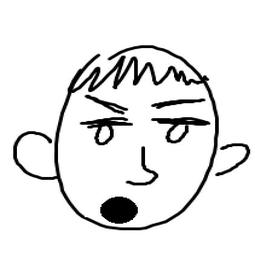ear: (205, 139, 252, 180)
empty_eye: (159, 116, 196, 145), (88, 120, 122, 147)
eyebrow: (152, 93, 211, 110)
frowning_eyebrow: (83, 94, 126, 113)
large_ear: (11, 128, 59, 181)
nose: (119, 141, 162, 191)
open_mouth: (93, 192, 142, 224)
